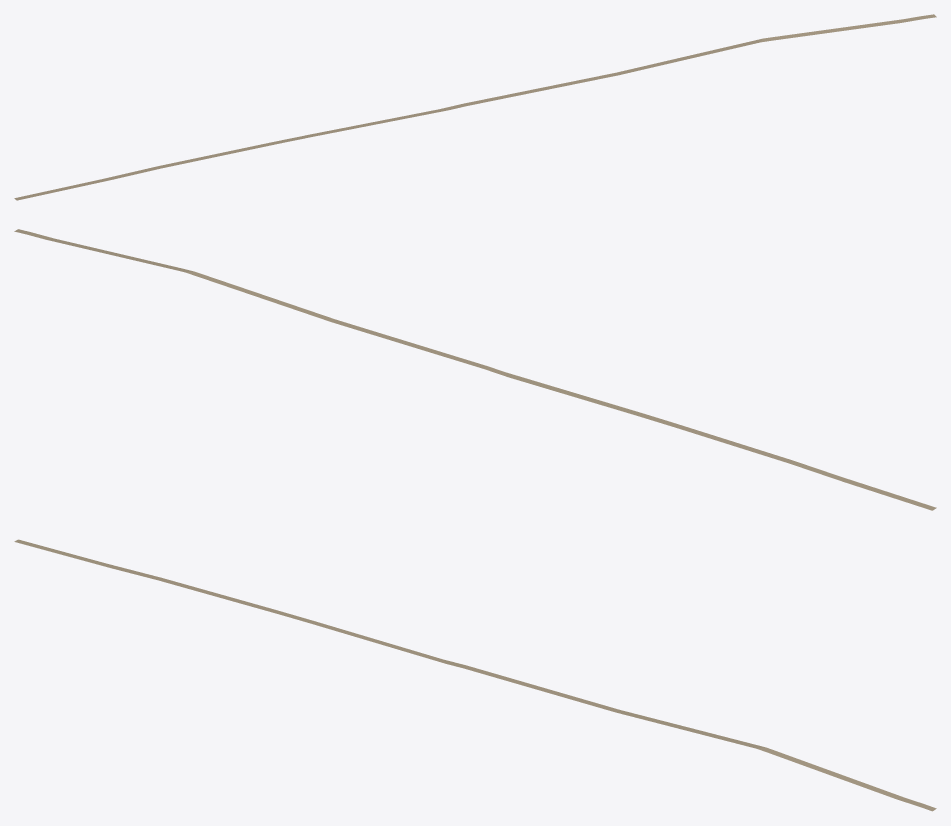
File: farm_15_14_track.glb
3 renders of one model, top to bottom at view 1: azimuth 30°, elevation 25°; view 2: azimuth 150°, elevation 25°; view 3: azimuth 330°, elevation 25°, orthographic. The views are drawn at different scales.
Parts seen in each view (by area): view 1: geometry_0; view 2: geometry_0; view 3: geometry_0.
Part boxes in pixels (x1,y1,x2,y2): geometry_0: (14,14,936,200); geometry_0: (14,229,936,510); geometry_0: (14,539,936,811).
Size of the model in its own units: 482 by 7.25 by 47.42.
